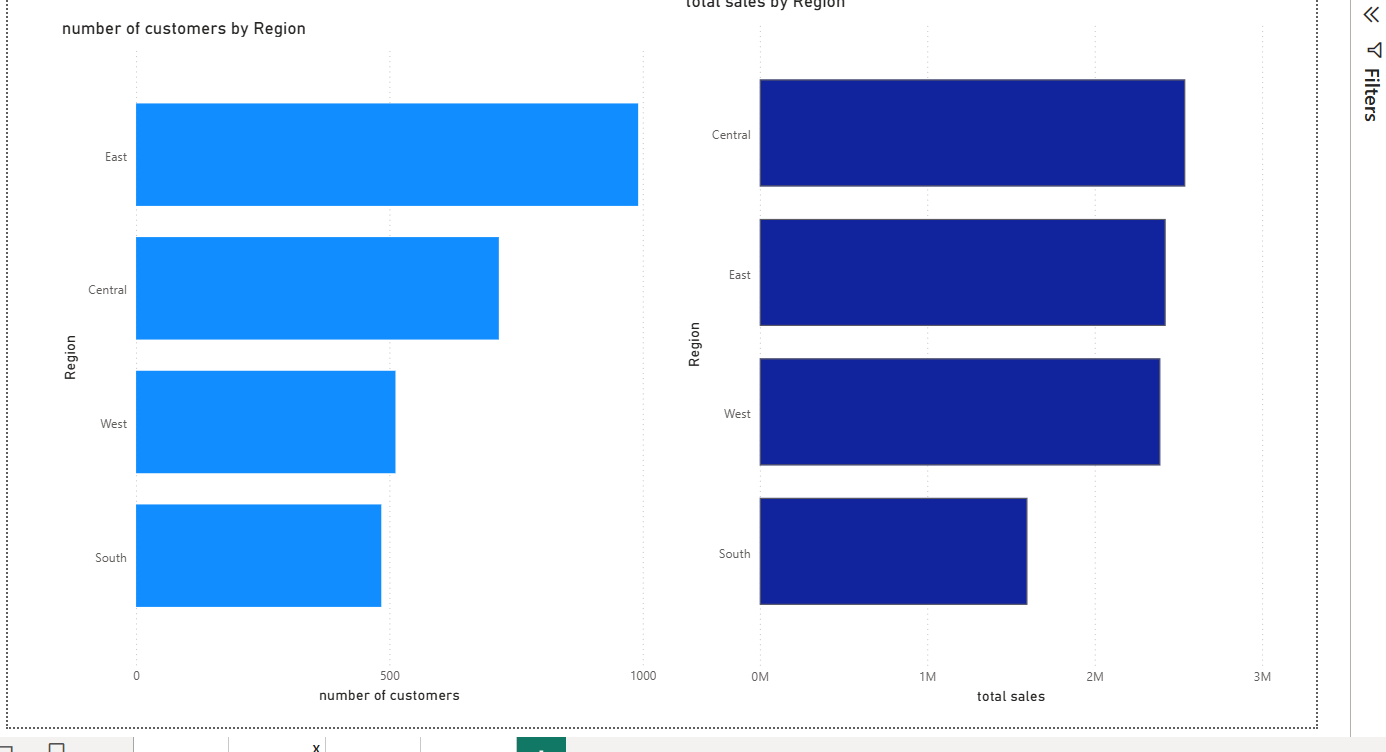

What the dashboard file says about the page in this screenshot:
{"tool":"powerbi","page":{"name":"Page 2","canvas":[1280,720],"ordinal":1},"visuals":[{"type":"clusteredBarChart","fields":{"Y":["Date.number of customers"],"Category":["Orders.Region"]},"box":[48,26.1,591.4,676.5],"z":0},{"type":"clusteredBarChart","fields":{"Category":["Orders.Region"],"Y":["Date.total sales"]},"box":[657.3,0,583.2,702.6],"z":1000}]}

Visuals, with their boxes on the page's 1280x720 design canvas (x1, y1, x2, y2). These are canvas units, not pixel positions in the 1386x752 screenshot, which may show the page scaled, cropped or inside an application window:
clusteredBarChart - Date.number of customers x Orders.Region: 48/26/639/703
clusteredBarChart - Orders.Region x Date.total sales: 657/0/1240/703
